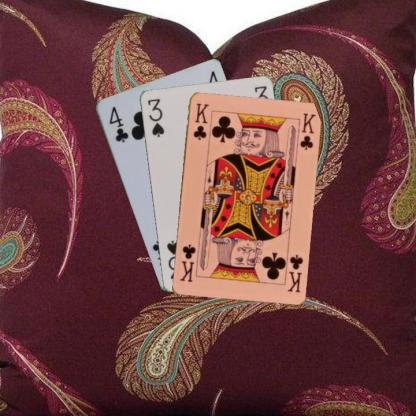3s: (145, 96, 165, 138)
4c: (104, 103, 129, 144)
Kc: (285, 251, 304, 294), (190, 101, 210, 141)
